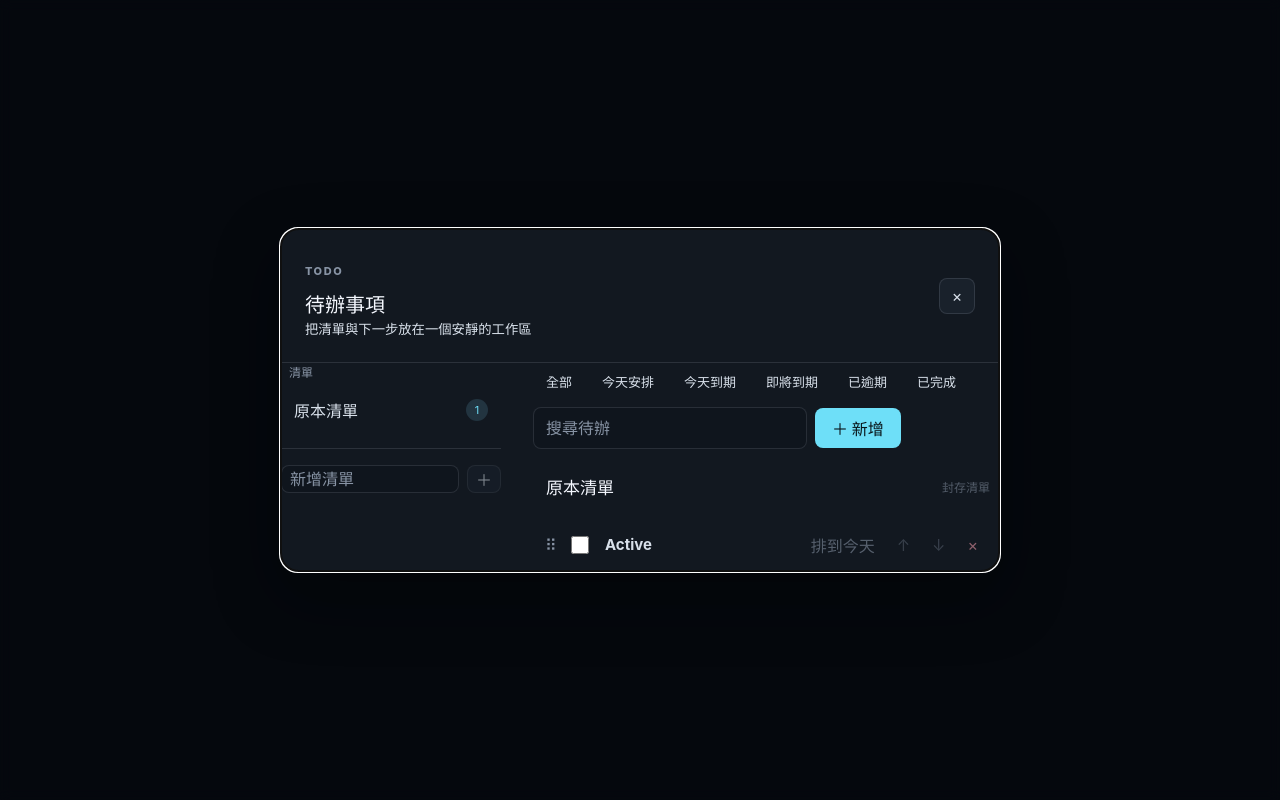
Test: TodoDialog list binding › quick-plans active items and hides planning controls for completed items
Click the button "排到今天". click: [843, 544]
box: [802,530,884,560]
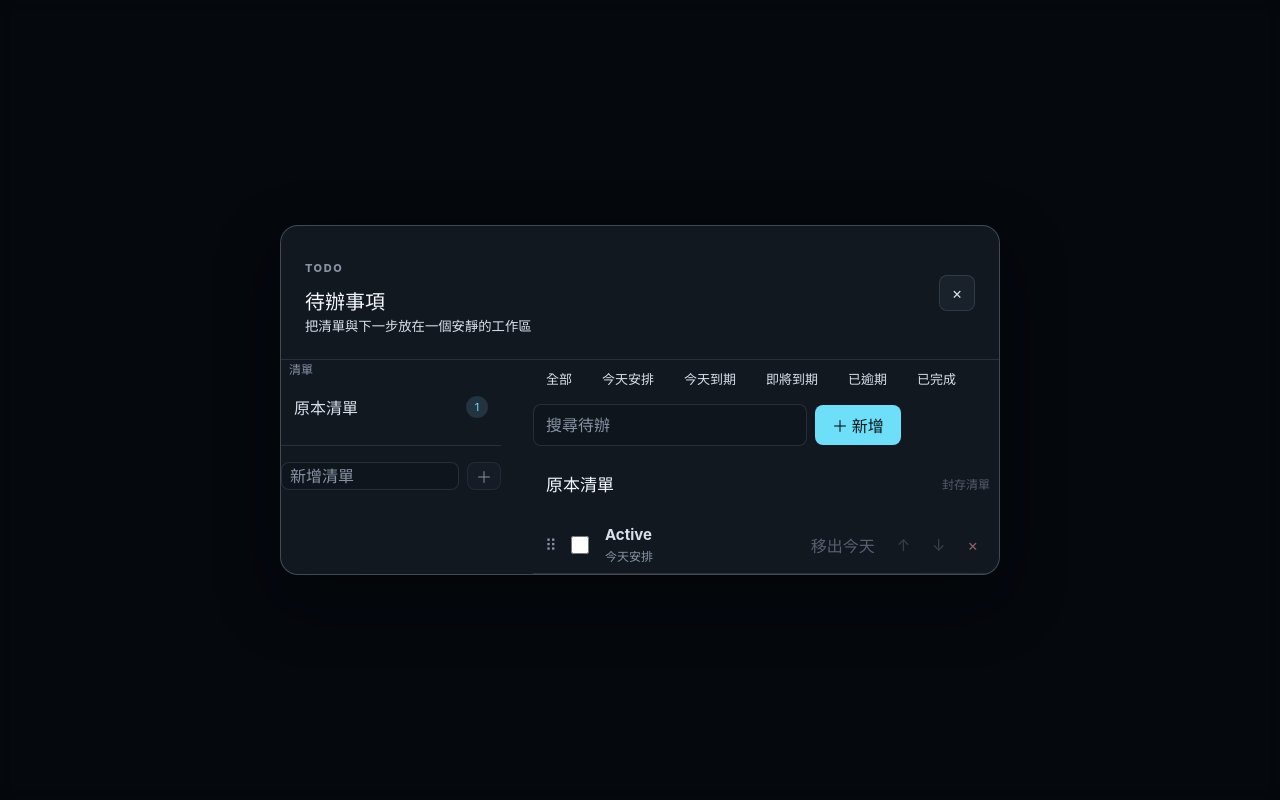
Click the button "已完成". click: [937, 378]
box: [904,360,969,396]
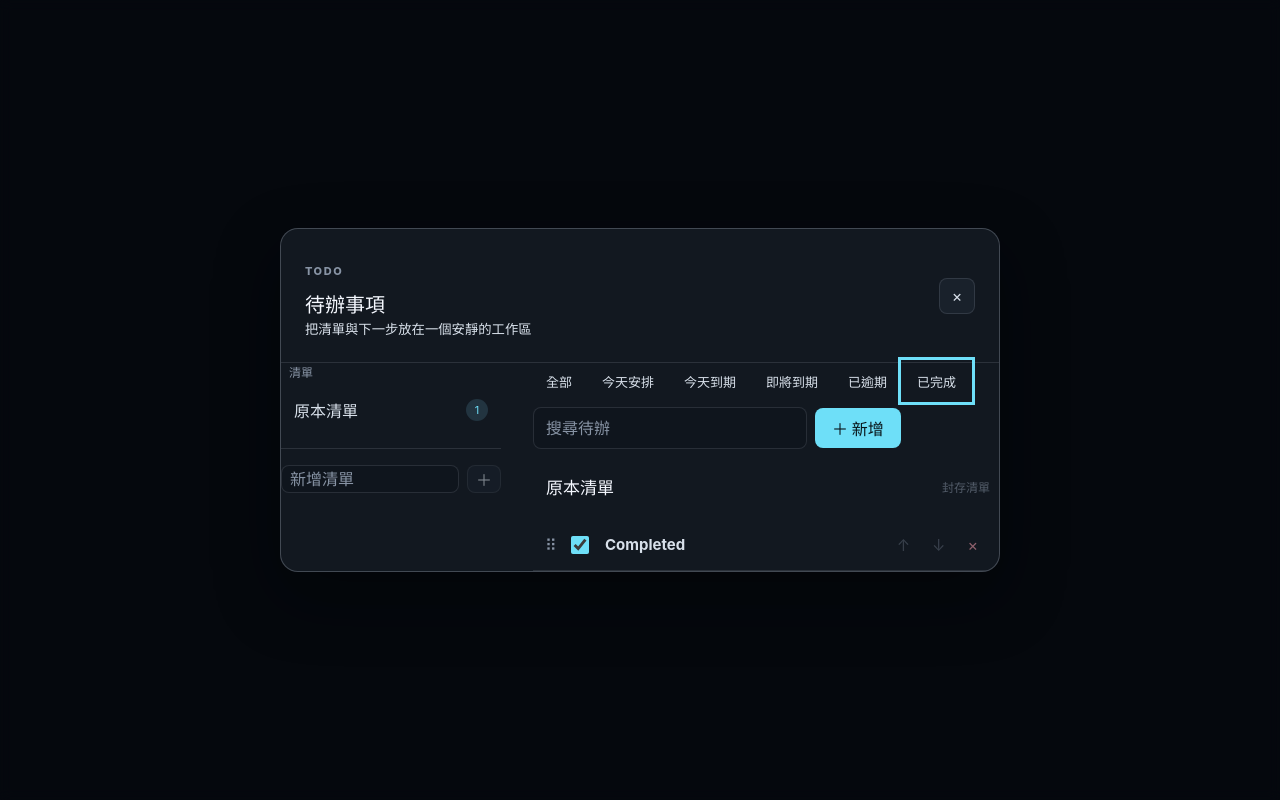
expect the button "排到今天" is not shown: met
expect the text "Completed" is shown: met, box [605,535,685,554]
expect the button "移出今天" is gone: met
